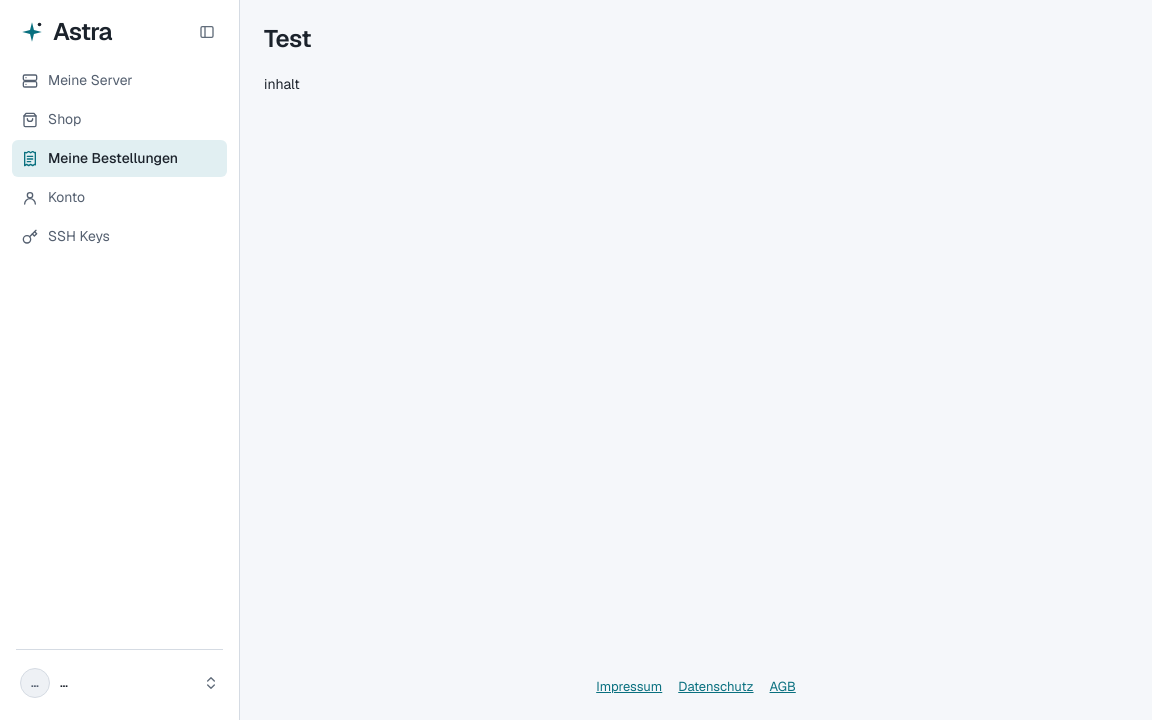
Test: Seitenleiste › wechselt im Nutzermenü die Sprache
Click the button named "Nutzermenü". click: coordinates (120, 683)
box: [12,662,227,704]
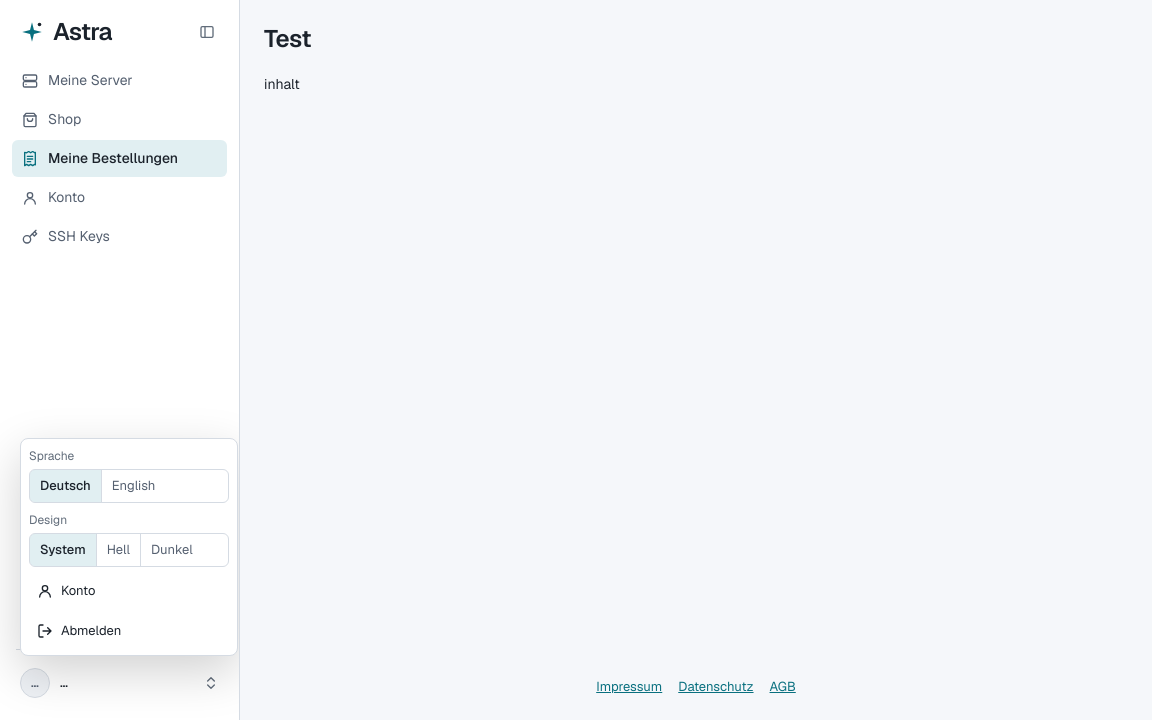
Click the button "English". click: coordinates (133, 486)
box: [101,470,165,502]
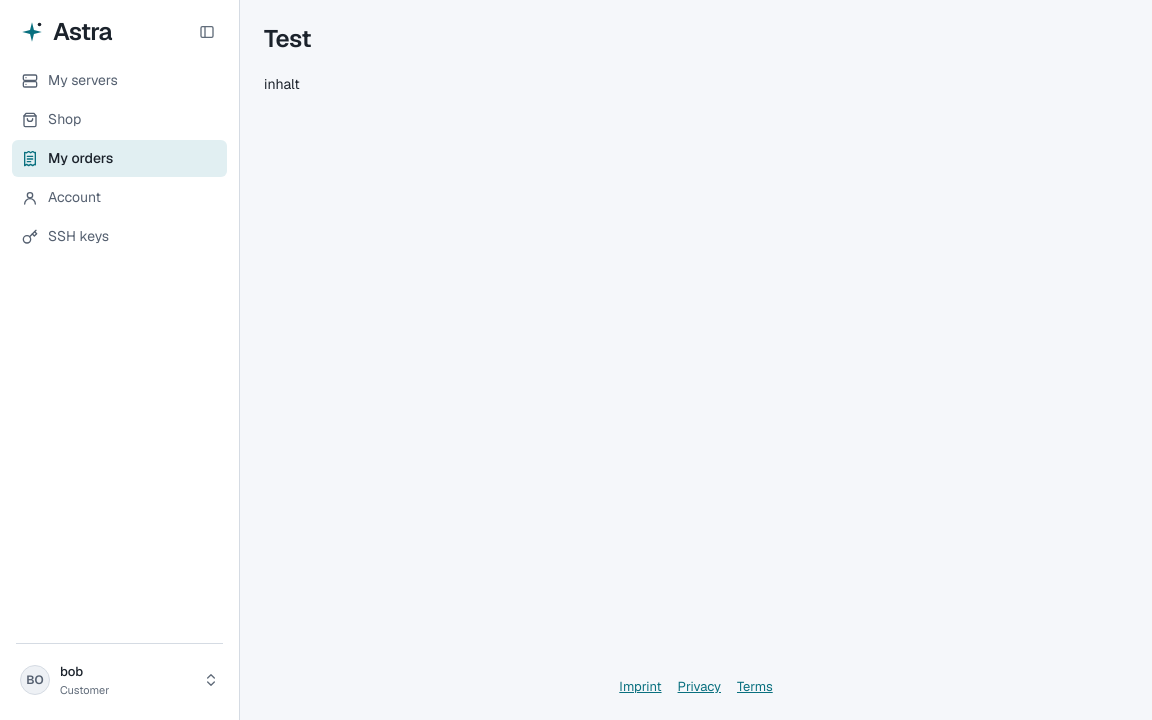
Expected: the link "My orders" is shown, [12,140,227,177]
